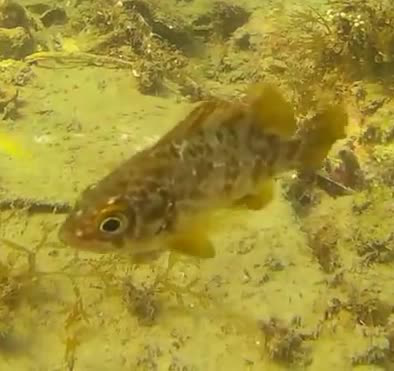mebaru: (65, 81, 346, 253)
